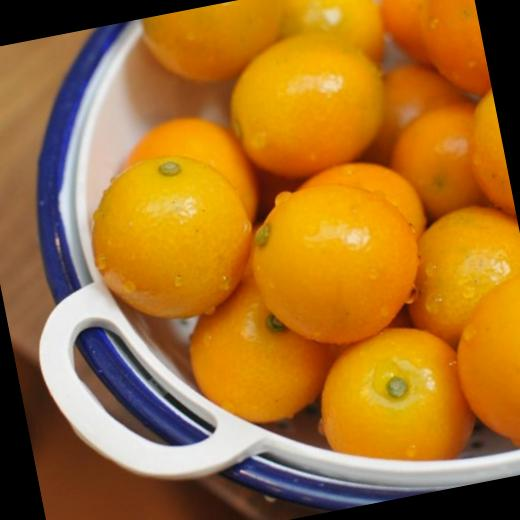Grape: (50, 0, 520, 518)
